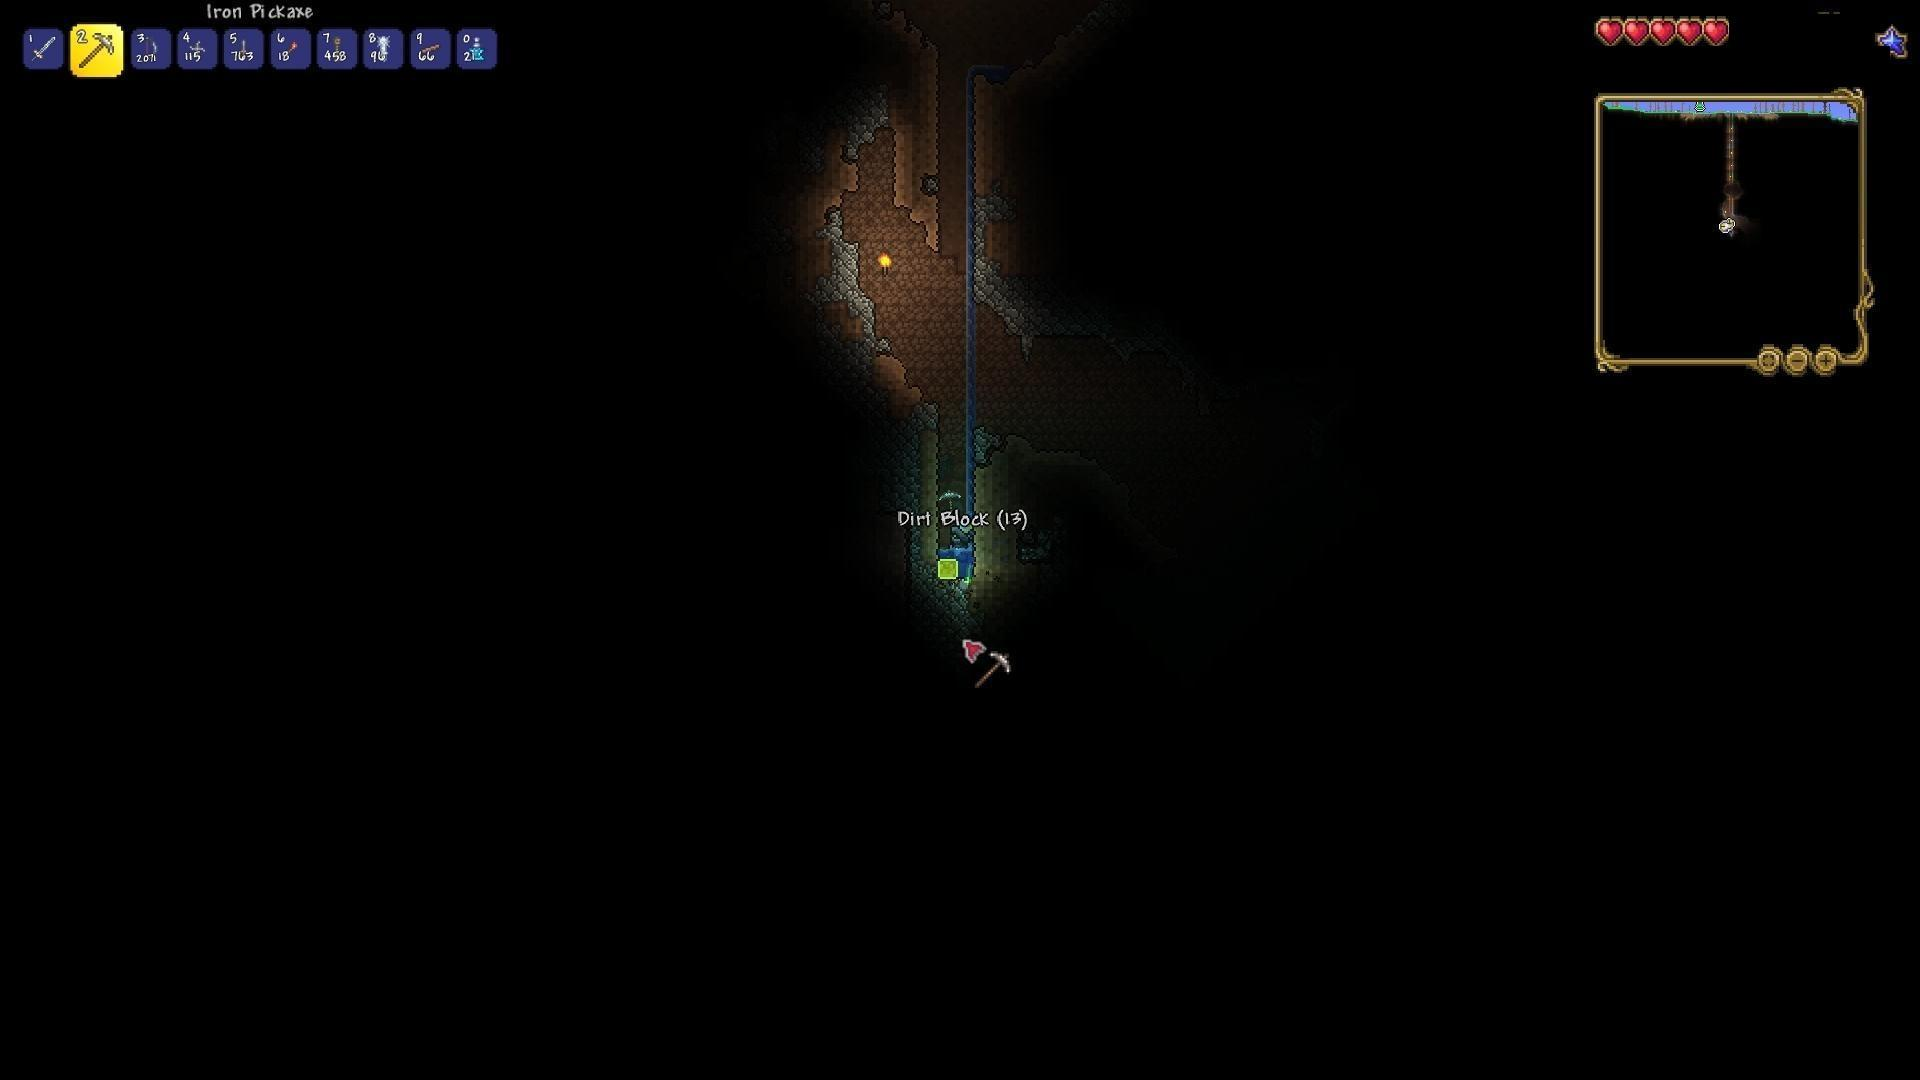heart: (1702, 17, 1733, 51), (1593, 16, 1626, 46), (1676, 15, 1704, 50), (1650, 16, 1676, 49), (1625, 15, 1651, 44)
stone: (967, 203, 1036, 345), (822, 215, 880, 340), (893, 560, 975, 622), (839, 105, 894, 167)
